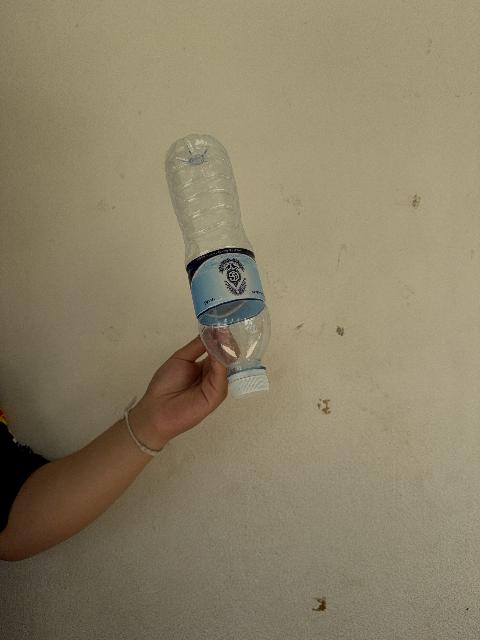bottle: (164, 135, 269, 398)
